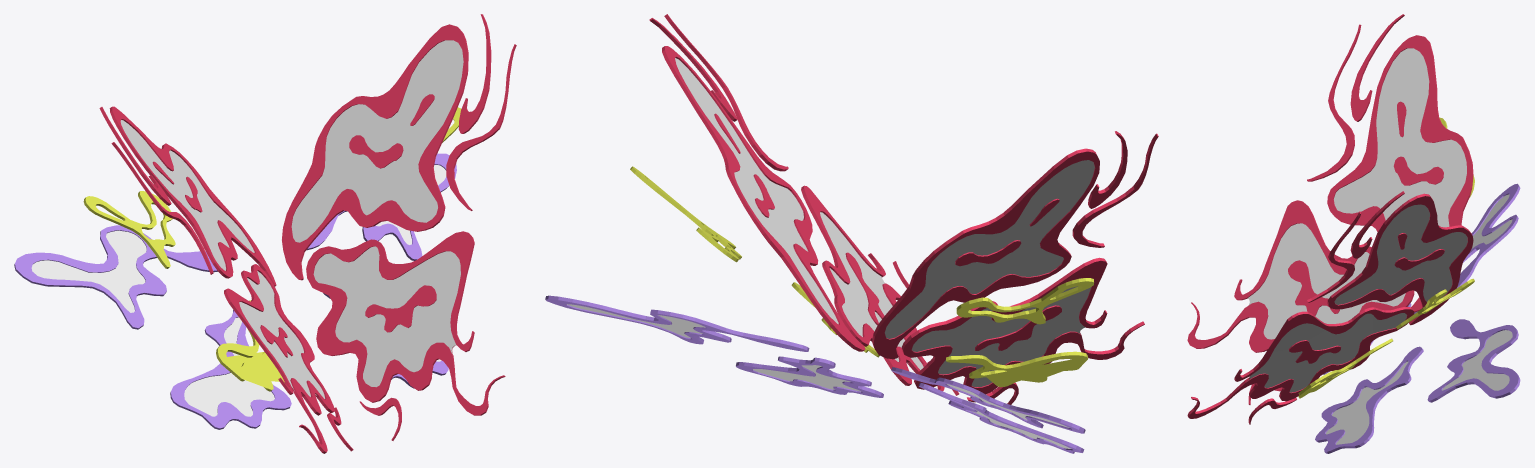
3 views of the same model, side by side, from view 1: azimuth 30°, elevation 25°; view 2: azimuth 150°, elevation 25°; view 3: azimuth 270°, elevation 25° (orthographic). The views are drawn at different scales.
Visible parts, largest first — view 1: 66, 44, 33, 77, 55, 22, 88, 11; view 2: 55, 33, 66, 44, 88, 77, 11, 22; view 3: 55, 44, 33, 66, 88, 11, 22, 77.
Boxes of the visible parts, x1,y1,x2,y2 form: 66: (287,14,491,227); 44: (316,239,505,440); 33: (170,270,353,453); 77: (14,225,282,368); 55: (83,106,241,268); 22: (383,44,516,257); 88: (282,153,456,299); 11: (111,142,240,313); 55: (878,131,1127,326); 33: (914,272,1144,453); 66: (630,18,822,311); 44: (736,202,959,397); 88: (545,265,872,379); 77: (872,307,1085,443); 11: (1000,133,1158,288); 22: (664,14,821,241); 55: (1373,14,1474,232); 44: (1187,307,1373,453); 33: (1187,220,1373,404); 66: (1373,191,1474,329); 88: (1373,285,1520,432); 11: (1282,24,1373,228); 22: (1282,211,1373,328); 77: (1373,183,1520,340).
Size of the model in its own units: 171 by 122 by 117.
